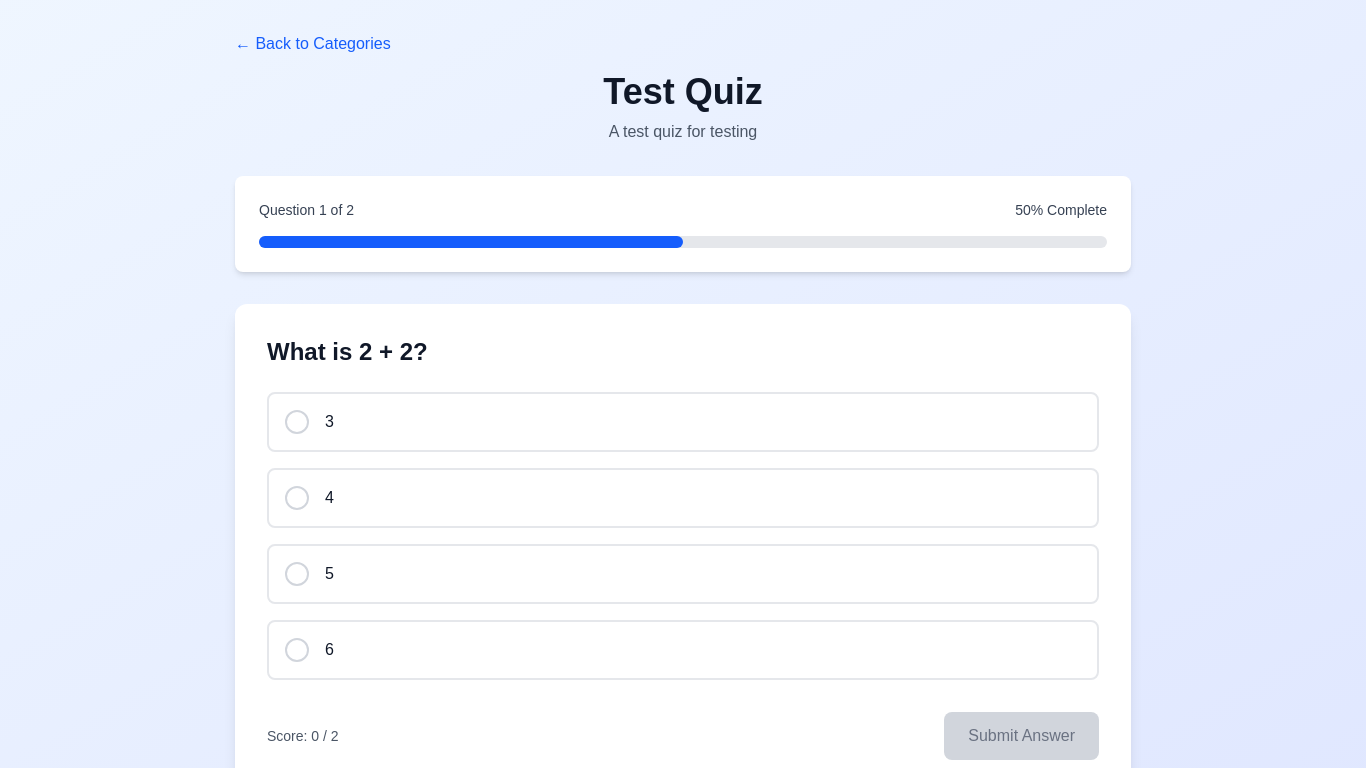
Test: QuizComponent › shows feedback after submitting answer
Click the button "4".
click(297, 498)  # box x1=267 y1=468 x2=1099 y2=528
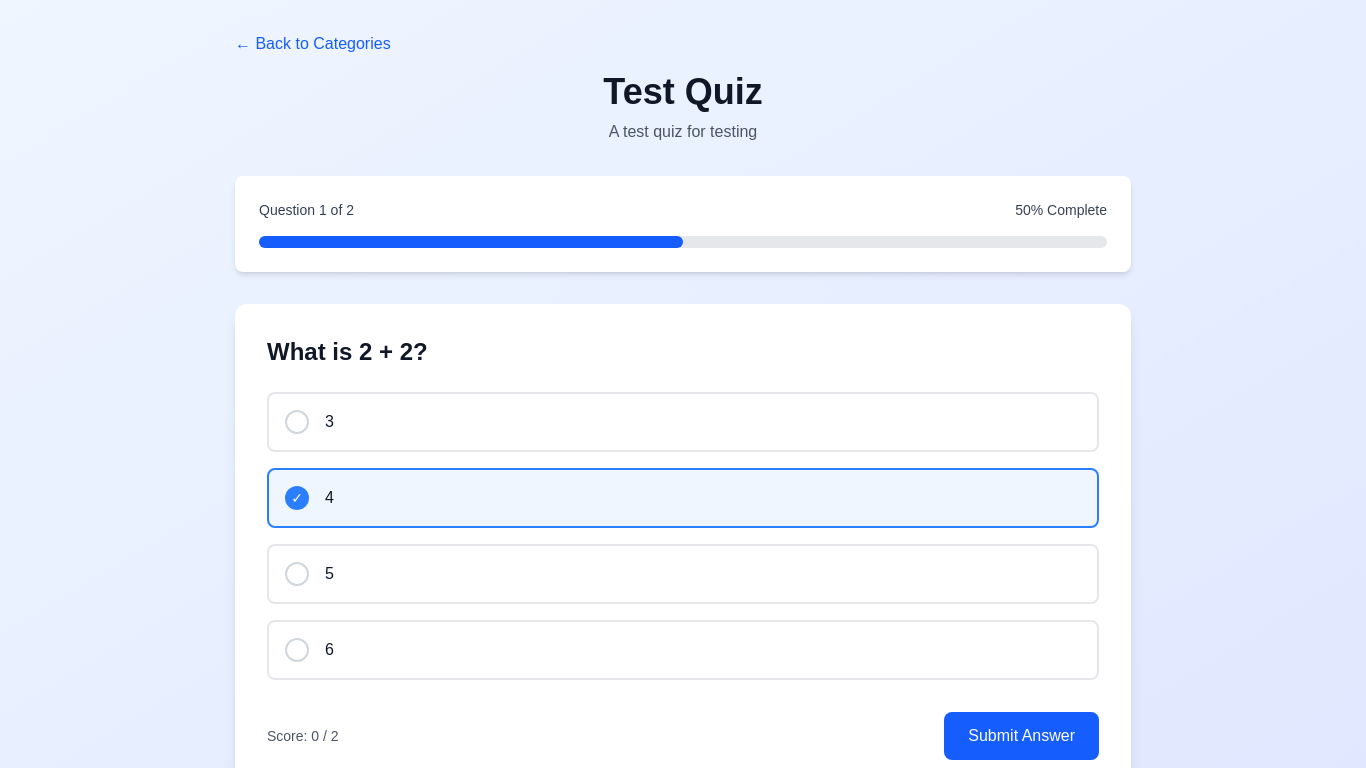
Click the button "Submit Answer".
click(1022, 736)  # box x1=944 y1=712 x2=1099 y2=760
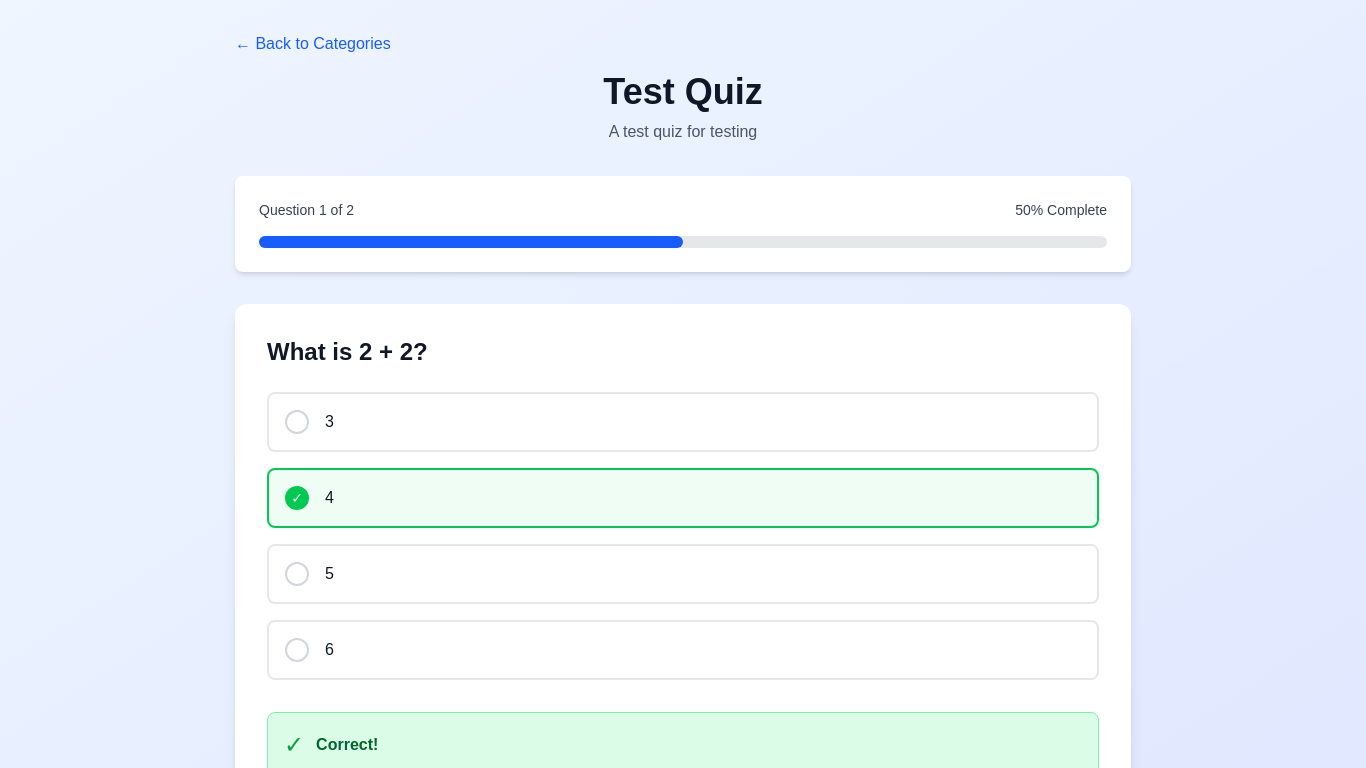
Check: the text "Correct!" is shown, box x1=316 y1=733 x2=378 y2=757
